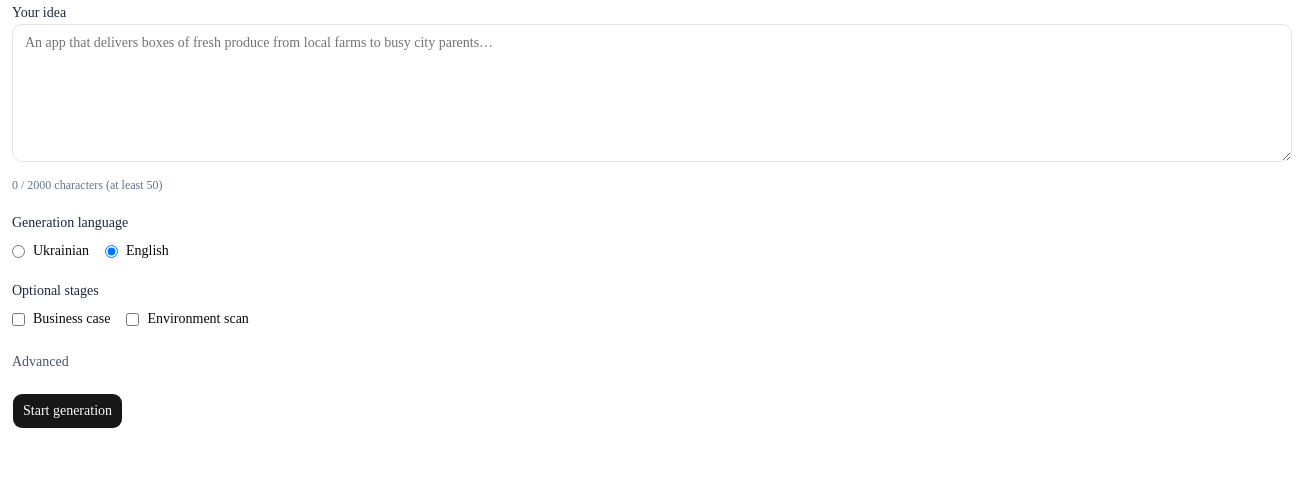
IdeaForm › offers only business case and environment scan, and hides auto-approve under Advanced
Expected: the checkbox labelled "Business case" is shown, [12,312,25,326]
Expected: the checkbox labelled "Environment scan" is shown, [126,312,139,326]
Click the button "Advanced" at (40, 362), box [12,352,69,372]
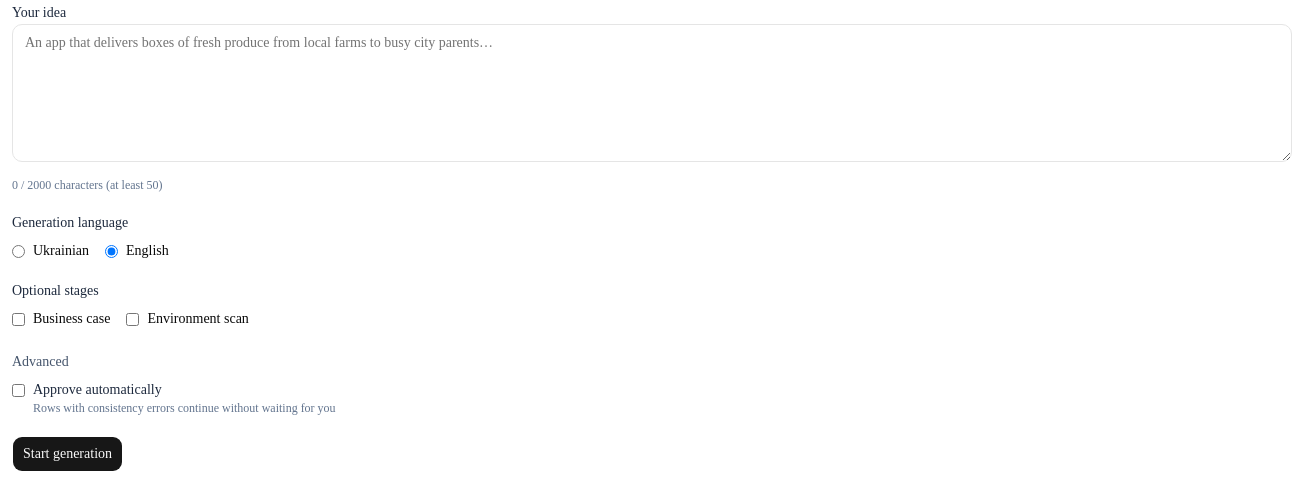
Expected: the checkbox labelled "Approve automatically" is not checked, [12,384,25,397]
